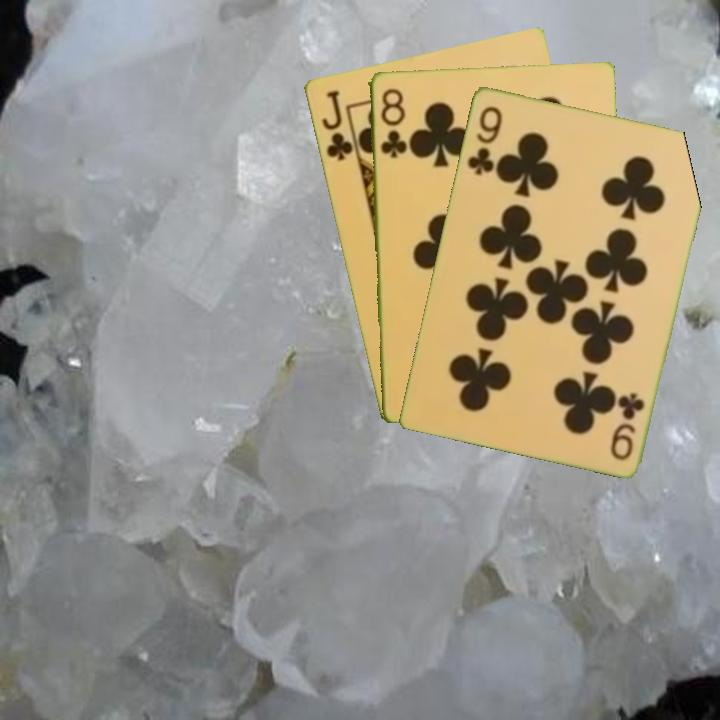8c: (376, 84, 408, 160)
9c: (463, 102, 505, 178), (606, 388, 647, 463)
Jc: (317, 86, 356, 164)
